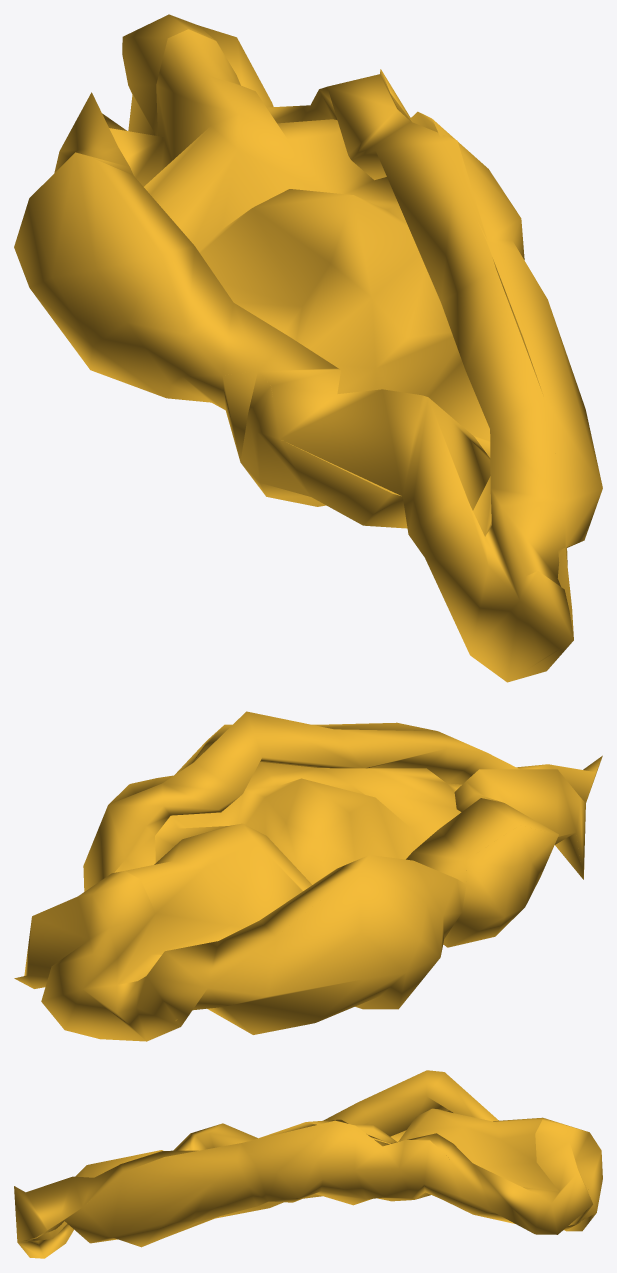
The model's file is nervoso-lateral-occipitotemporal-gyrus-r.glb.
3 views of the same model, one above another, from view 1: azimuth 30°, elevation 25°; view 2: azimuth 150°, elevation 25°; view 3: azimuth 270°, elevation 25° (orthographic). The views are drawn at different scales.
Parts seen in each view (by area): view 1: Lateral occipitotemporal gyrus.r; view 2: Lateral occipitotemporal gyrus.r; view 3: Lateral occipitotemporal gyrus.r.
Part boxes in pixels (box(x1,y1,x2,y2)): Lateral occipitotemporal gyrus.r: box(14, 14, 602, 682); Lateral occipitotemporal gyrus.r: box(14, 711, 602, 1041); Lateral occipitotemporal gyrus.r: box(14, 1070, 602, 1258).
Size of the model in its own units: 0.0258 by 0.022 by 0.0623.
